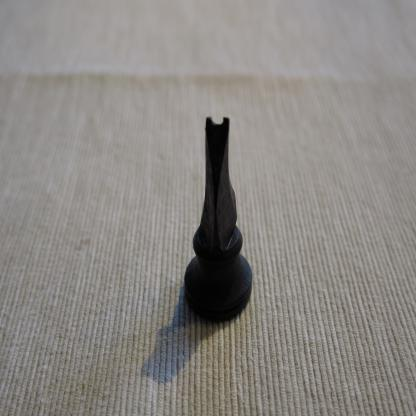black-knight: (183, 115, 253, 322)
